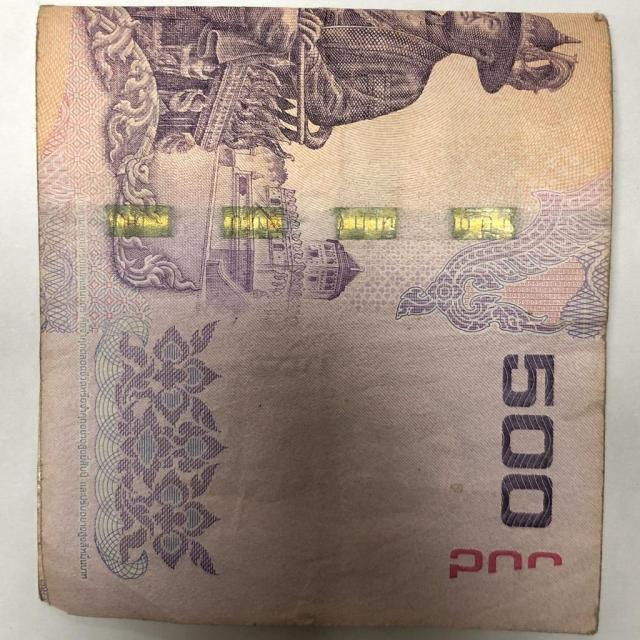THAI500: (37, 7, 612, 633)
